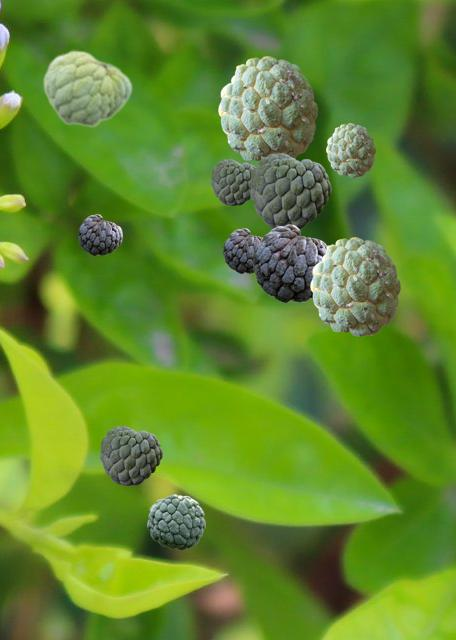atis: (218, 56, 316, 161), (310, 237, 399, 335), (42, 49, 131, 127), (250, 153, 330, 229), (253, 224, 326, 301), (100, 426, 161, 484), (147, 494, 204, 549), (326, 123, 374, 176), (211, 159, 255, 204), (78, 214, 121, 254), (223, 228, 261, 272)
